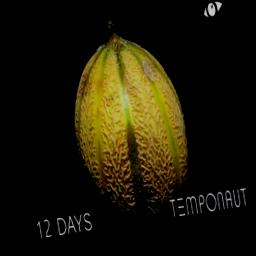Melon Ripe: (52, 10, 202, 236)
